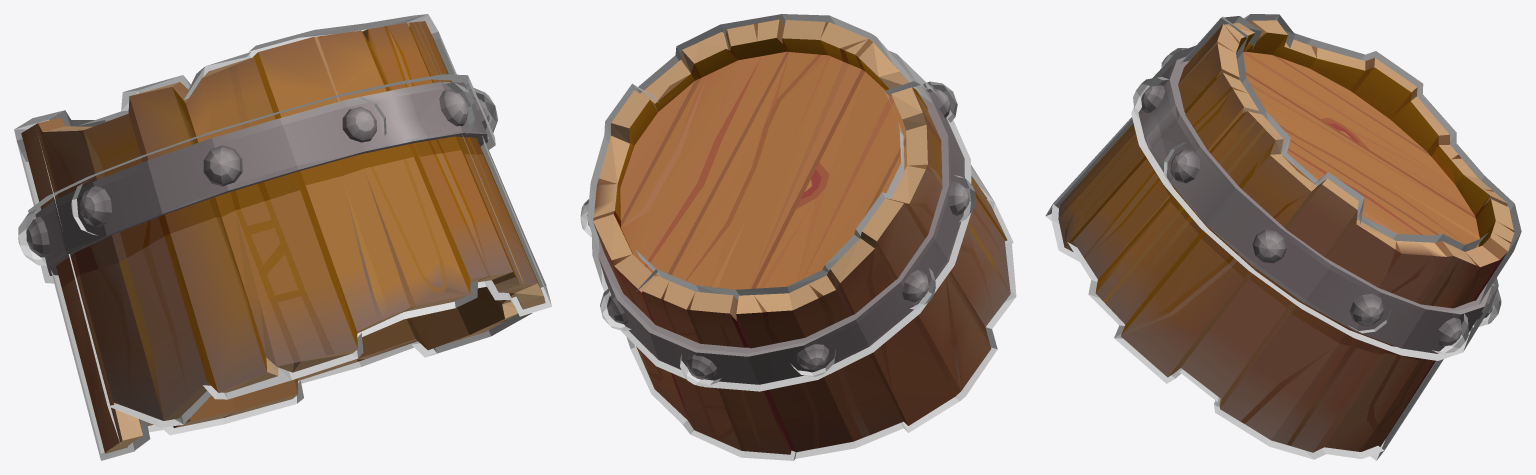
File: pickup_pirateHelmetGinger_outline_MESH.glb
3 views of the same model, side by side, from view 1: azimuth 30°, elevation 25°; view 2: azimuth 150°, elevation 25°; view 3: azimuth 270°, elevation 25° (orthographic). The views are drawn at different scales.
Parts seen in each view (by area): view 1: pickup_pirateHelmetGinger_outline_MESH; view 2: pickup_pirateHelmetGinger_outline_MESH; view 3: pickup_pirateHelmetGinger_outline_MESH.
Part boxes in pixels (x1,y1,x2,y2): pickup_pirateHelmetGinger_outline_MESH: [14, 14, 551, 460]; pickup_pirateHelmetGinger_outline_MESH: [580, 14, 1016, 460]; pickup_pirateHelmetGinger_outline_MESH: [1045, 14, 1521, 460].
Bounding box in the file's own units: 0.5808 × 0.61 × 0.6565.
